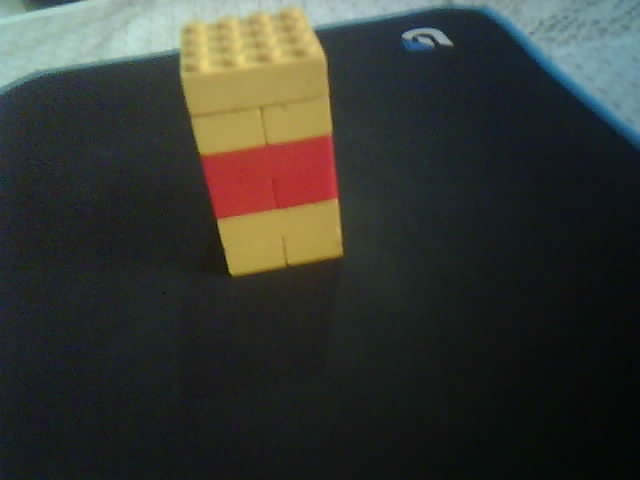lego: (176, 7, 345, 279)
